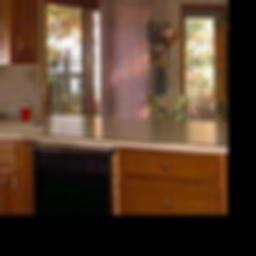Electrodomestico: (33, 142, 114, 214)
